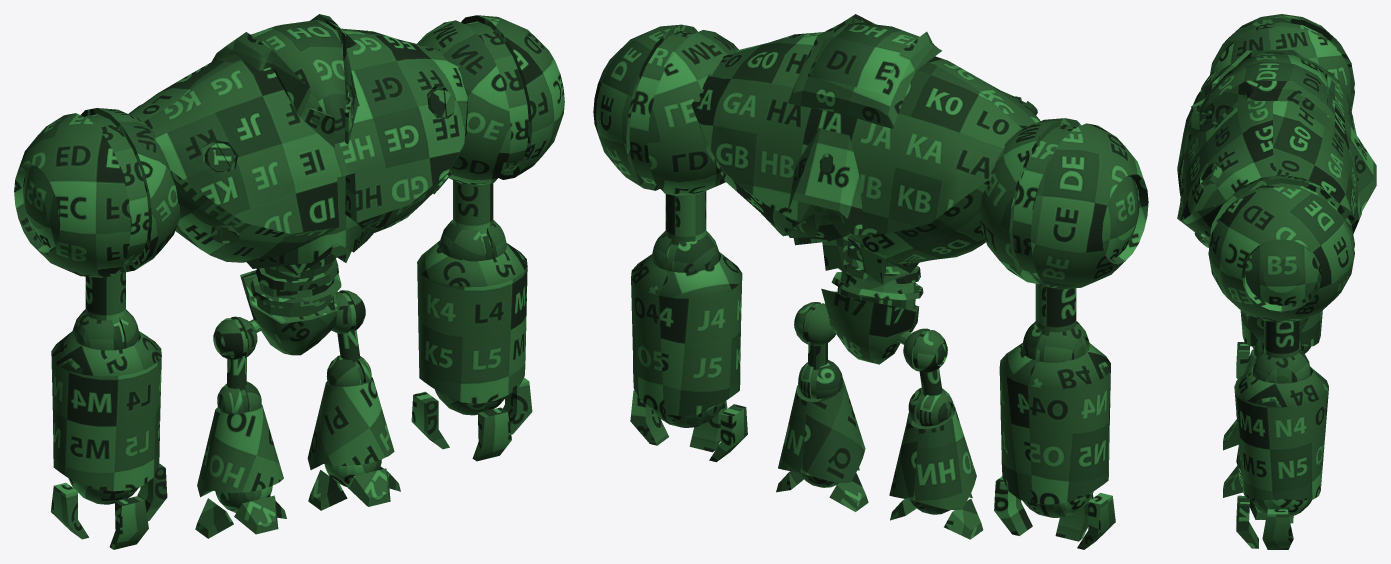
The model's file is UVRobotSeamsChanged.fbx.
3 views of the same model, side by side, from view 1: azimuth 30°, elevation 25°; view 2: azimuth 150°, elevation 25°; view 3: azimuth 270°, elevation 25° (orthographic). The views are drawn at different scales.
Parts seen in each view (by area): view 1: TopTorso, L_Shoulder4, L_Shoulder6, L_Forearm6, L_Forearm4, L_Shin4, L_Shin6, InnerHead, OutSideHead, Stomach, Pelvis, MiddleTorso (+23 smaller); view 2: TopTorso, L_Shoulder4, L_Shoulder6, L_Forearm4, L_Forearm6, L_Shin4, L_Shin6, OutSideHead, InnerHead, OuterJetPack, Pelvis, Stomach (+20 smaller); view 3: L_Shoulder6, TopTorso, L_Forearm6, L_Shoulder4, OutSideHead, InnerHead, L_Elbow6, OuterJetPack, L_Bicep6, L_Claw9, L_Forearm4, L_Claw11 (+6 smaller).
Boxes of the visible parts, <box> form: TopTorso: <box>128,28,467,262</box>; L_Shoulder4: <box>14,108,180,277</box>; L_Shoulder6: <box>417,15,564,185</box>; L_Forearm6: <box>417,240,527,403</box>; L_Forearm4: <box>51,331,161,491</box>; L_Shin4: <box>197,404,283,497</box>; L_Shin6: <box>307,377,394,469</box>; InnerHead: <box>251,19,347,143</box>; OutSideHead: <box>211,14,359,147</box>; Stomach: <box>250,254,341,317</box>; Pelvis: <box>240,270,337,355</box>; MiddleTorso: <box>246,176,373,268</box>; TopTorso: <box>691,32,1040,263</box>; L_Shoulder4: <box>979,118,1148,289</box>; L_Shoulder6: <box>593,24,738,195</box>; L_Forearm4: <box>999,343,1110,504</box>; L_Forearm6: <box>631,252,742,416</box>; L_Shin4: <box>889,404,976,509</box>; L_Shin6: <box>778,378,865,482</box>; OutSideHead: <box>788,14,941,128</box>; InnerHead: <box>810,22,919,93</box>; OuterJetPack: <box>787,128,862,232</box>; Pelvis: <box>821,288,919,364</box>; Stomach: <box>831,234,923,310</box>; L_Shoulder6: <box>1208,175,1354,323</box>; TopTorso: <box>1177,50,1361,236</box>; L_Forearm6: <box>1234,366,1328,500</box>; L_Shoulder4: <box>1210,14,1354,110</box>; OutSideHead: <box>1191,50,1334,138</box>; InnerHead: <box>1198,53,1327,137</box>; L_Elbow6: <box>1253,349,1310,383</box>; OuterJetPack: <box>1345,118,1376,212</box>; L_Bicep6: <box>1264,320,1299,358</box>; L_Claw9: <box>1262,509,1293,549</box>; L_Forearm4: <box>1240,310,1322,346</box>; L_Claw11: <box>1236,495,1258,548</box>.
Bounding box in the file's own units: 4.95 × 4.4 × 1.92.
Materials: 1 (1 with a texture image).
